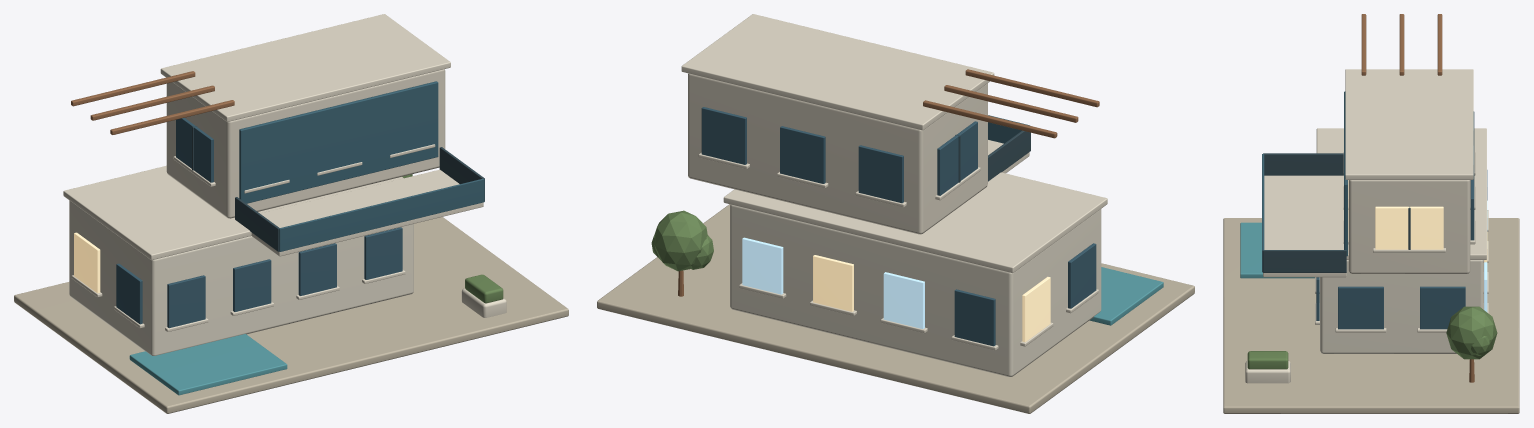
File: villa.glb
The picture shows the model from 3 angles, left to right: view 1: azimuth 30°, elevation 25°; view 2: azimuth 150°, elevation 25°; view 3: azimuth 270°, elevation 25°; orthographic projection. The views are drawn at different scales.
Visible parts, largest first — view 1: villa_Site_Paving, villa_Building_Volume, villa_Roof_Coping.001, villa_Panoramic_Window, villa_Roof_Coping, villa_Building_Volume.001, villa_Garden_Pool, villa_Balcony_Glass, villa_Balcony_Slab, villa_Window_Recess.001, villa_Window_Recess.003, villa_Window_Recess.007 (+11 smaller); view 2: villa_Building_Volume, villa_Site_Paving, villa_Building_Volume.001, villa_Roof_Coping.001, villa_Roof_Coping, villa_Tree_Crown, villa_Garden_Pool, villa_Window_Recess.012, villa_Window_Recess.014, villa_Window_Recess.016, villa_Window_Recess, villa_Window_Recess.006 (+9 smaller); view 3: villa_Site_Paving, villa_Roof_Coping.001, villa_Building_Volume.001, villa_Building_Volume, villa_Balcony_Slab, villa_Window_Recess.019, villa_Roof_Coping, villa_Window_Recess.011, villa_Balcony_Rail.001, villa_Tree_Crown, villa_Balcony_Rail, villa_Window_Recess.009 (+11 smaller).
Part boxes in pixels (box(x1,y1,x2,y2)): villa_Site_Paving: box(14, 217, 568, 413); villa_Building_Volume: box(69, 200, 413, 355); villa_Roof_Coping.001: box(160, 14, 450, 121); villa_Panoramic_Window: box(239, 81, 438, 203); villa_Roof_Coping: box(63, 165, 403, 260); villa_Building_Volume.001: box(166, 69, 445, 218); villa_Garden_Pool: box(129, 334, 287, 395); villa_Balcony_Glass: box(279, 178, 484, 251); villa_Balcony_Slab: box(251, 169, 483, 256); villa_Window_Recess.001: box(167, 275, 205, 328); villa_Window_Recess.003: box(233, 259, 271, 311); villa_Window_Recess.007: box(364, 227, 402, 279); villa_Building_Volume: box(730, 204, 1101, 376); villa_Site_Paving: box(597, 204, 1194, 413); villa_Building_Volume.001: box(688, 73, 987, 234); villa_Roof_Coping.001: box(681, 14, 994, 130); villa_Roof_Coping: box(723, 172, 1107, 273); villa_Tree_Crown: box(654, 210, 707, 271); villa_Garden_Pool: box(1089, 267, 1163, 325); villa_Window_Recess.012: box(858, 145, 903, 203); villa_Window_Recess.014: box(780, 126, 825, 183); villa_Window_Recess.016: box(701, 107, 746, 164); villa_Window_Recess: box(954, 289, 995, 346); villa_Window_Recess.006: box(742, 237, 783, 294); villa_Site_Paving: box(1223, 218, 1519, 413); villa_Roof_Coping.001: box(1345, 69, 1473, 179); villa_Building_Volume.001: box(1348, 180, 1470, 273); villa_Building_Volume: box(1320, 260, 1483, 353); villa_Balcony_Slab: box(1263, 175, 1346, 277); villa_Window_Recess.019: box(1375, 206, 1443, 249); villa_Roof_Coping: box(1316, 128, 1486, 259); villa_Window_Recess.011: box(1338, 286, 1383, 329); villa_Balcony_Rail.001: box(1263, 250, 1346, 272); villa_Tree_Crown: box(1446, 306, 1497, 359); villa_Balcony_Rail: box(1263, 153, 1343, 175); villa_Window_Recess.009: box(1420, 286, 1465, 329).
Size of the model in its own units: 11.8 by 6.37 by 7.8.
